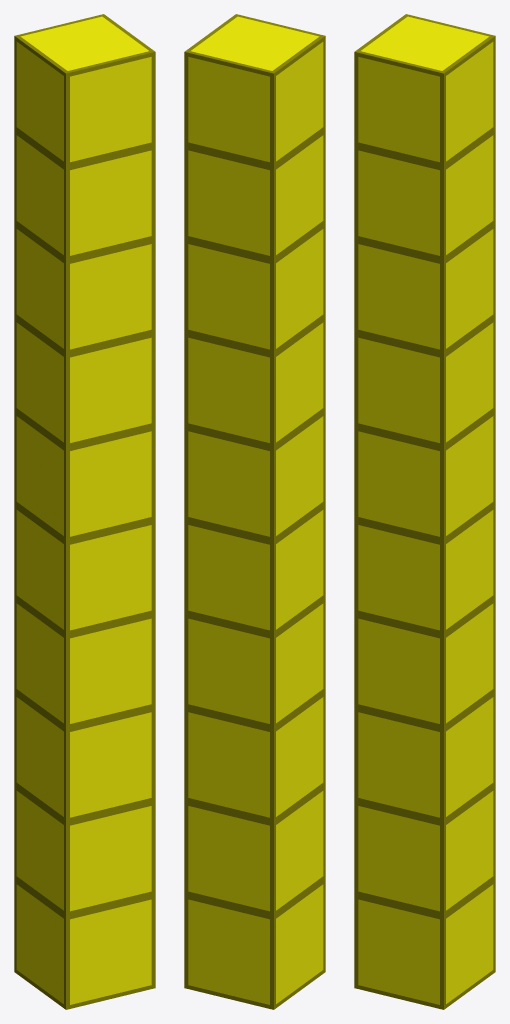
Rendered from dezena.fbx.
The picture shows the model from 3 angles, left to right: view 1: azimuth 30°, elevation 25°; view 2: azimuth 150°, elevation 25°; view 3: azimuth 330°, elevation 25°; orthographic projection.
Visible parts, largest first — view 1: Cube.010; view 2: Cube.010; view 3: Cube.010.
Boxes of the visible parts, x1,y1,x2,y2 form: Cube.010: (14, 14, 155, 1009); Cube.010: (184, 14, 325, 1009); Cube.010: (354, 14, 495, 1009).
Bounding box in the file's own units: 2000 × 200 × 200.
